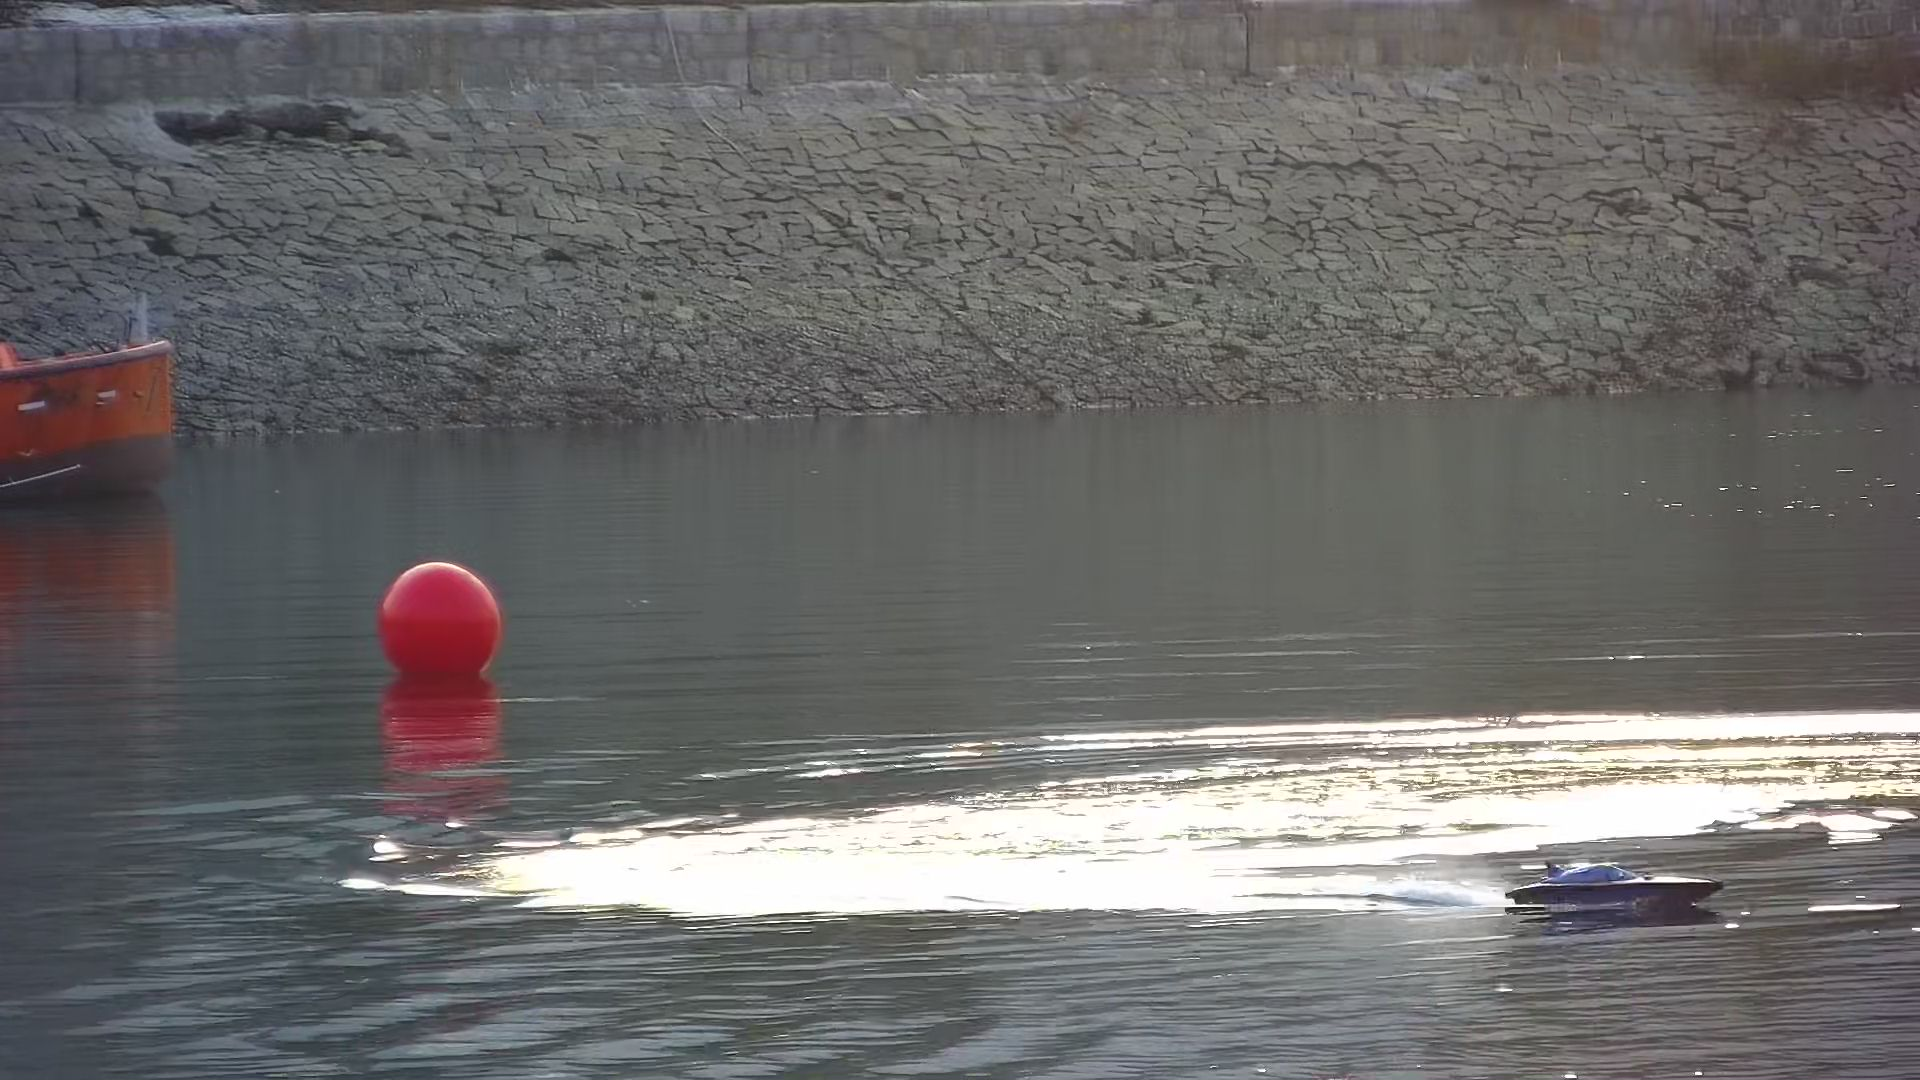ball: (378, 558, 502, 684)
boat: (1501, 855, 1727, 916)
